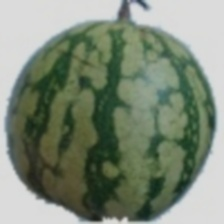watermelon: (11, 30, 209, 194)
